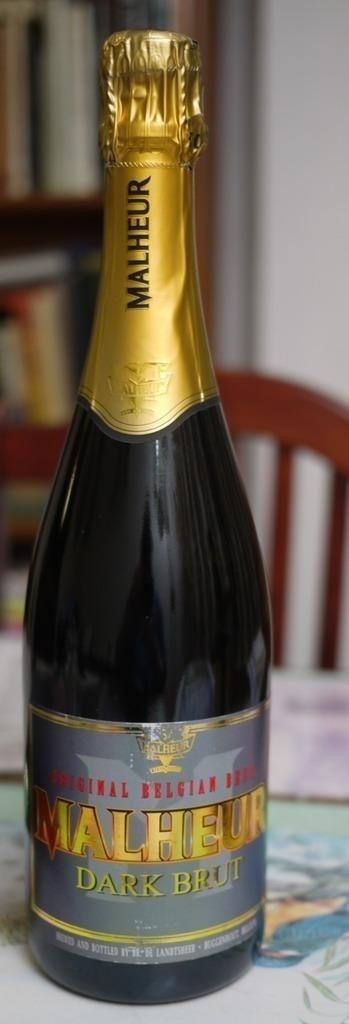bottle-glass: (20, 24, 273, 1009)
